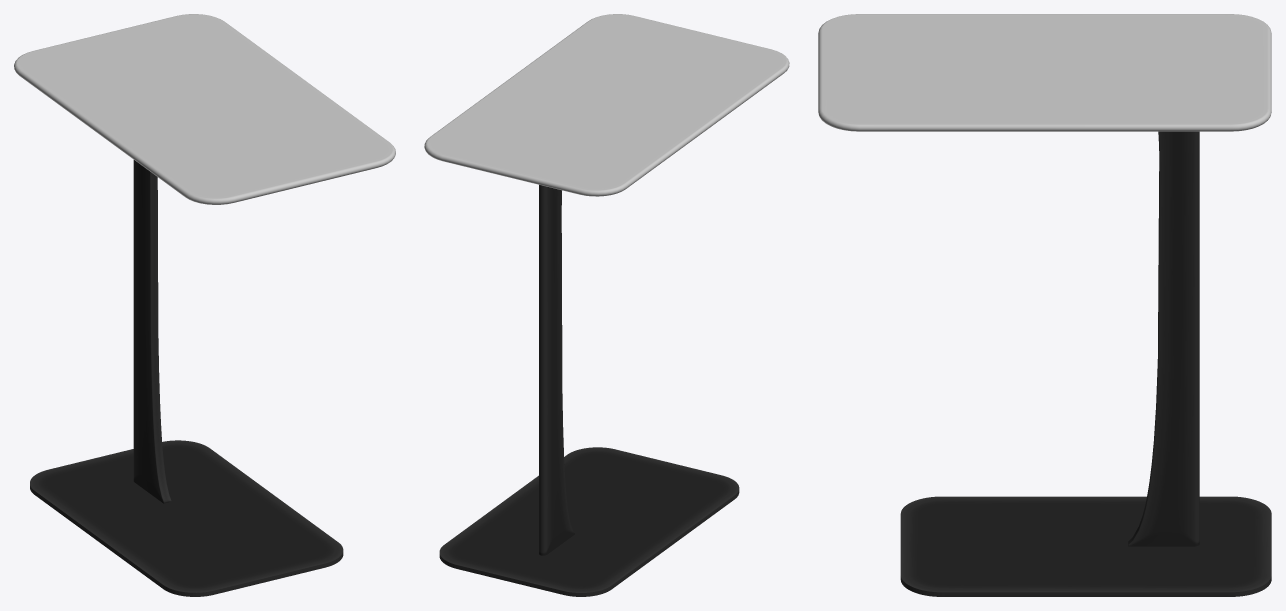
File: HandleTable.fbx
3 views of the same model, side by side, from view 1: azimuth 30°, elevation 25°; view 2: azimuth 150°, elevation 25°; view 3: azimuth 270°, elevation 25° (orthographic). The views are drawn at different scales.
Visible parts, largest first — view 1: HandleTable; view 2: HandleTable; view 3: HandleTable.
Part boxes in pixels (x1,y1,x2,y2): HandleTable: [14, 14, 395, 596]; HandleTable: [424, 14, 789, 596]; HandleTable: [818, 14, 1271, 596].
Size of the model in its own units: 33.02 by 65.25 by 55.88.
